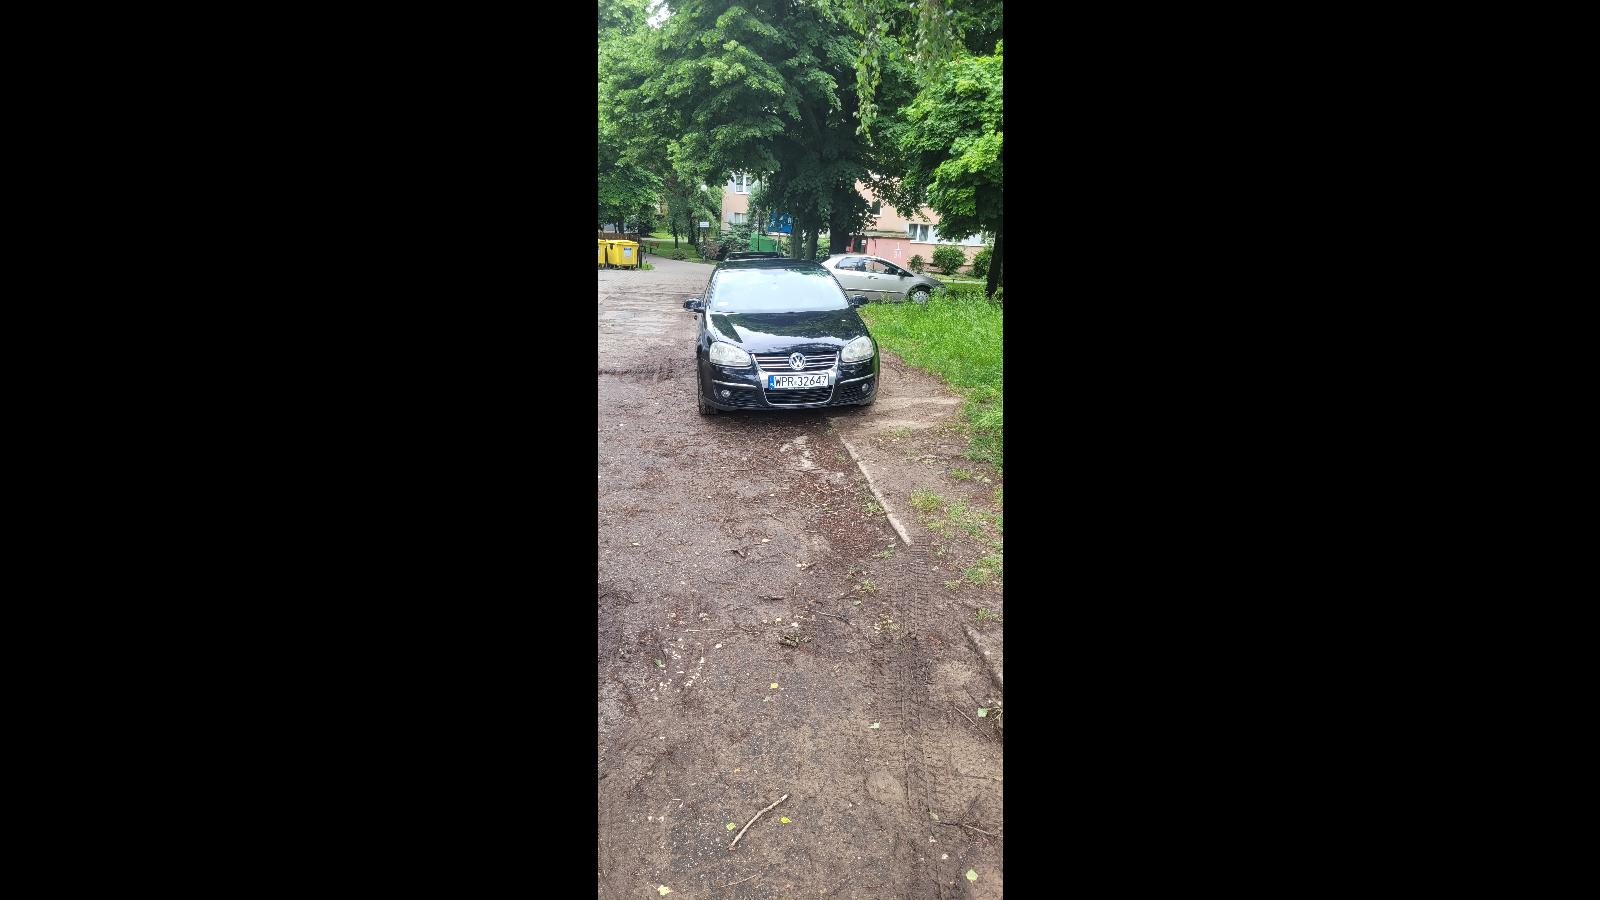plates: (768, 373, 828, 391)
